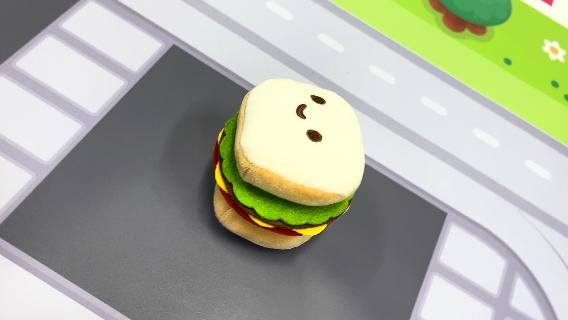sandwich: (210, 76, 368, 250)
